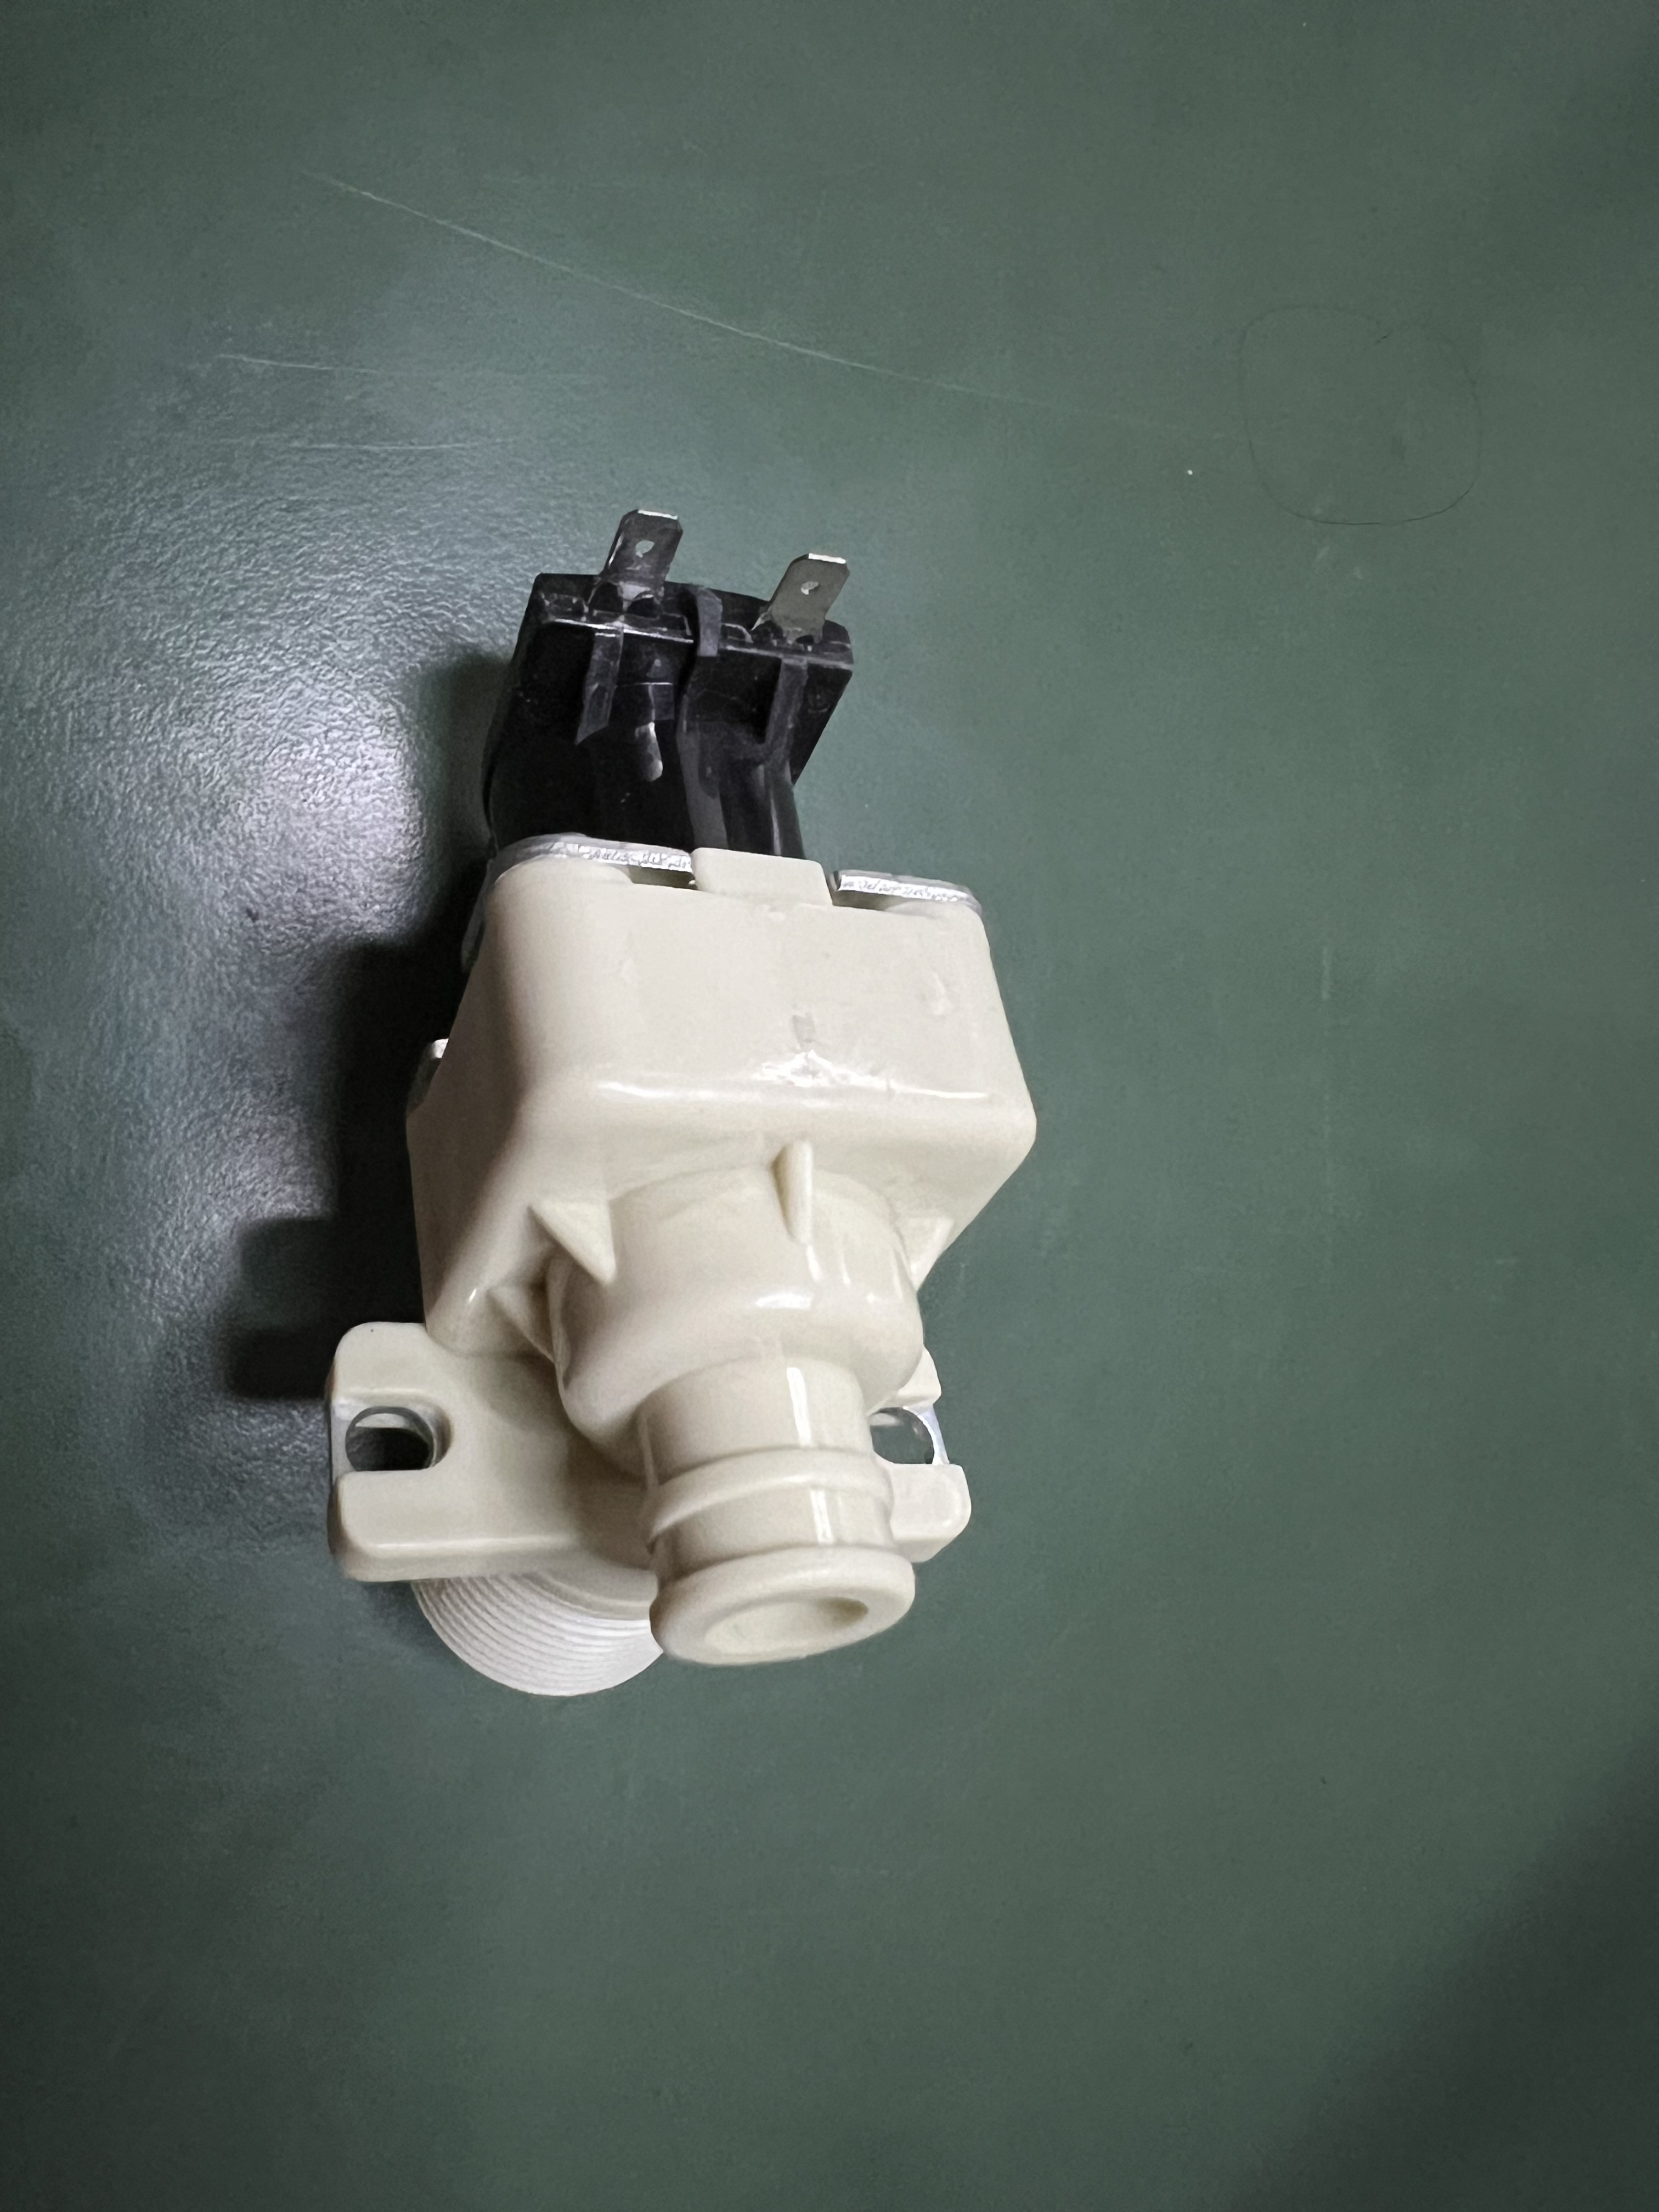godrej_inlet_valves: (261, 498, 1056, 1710)
